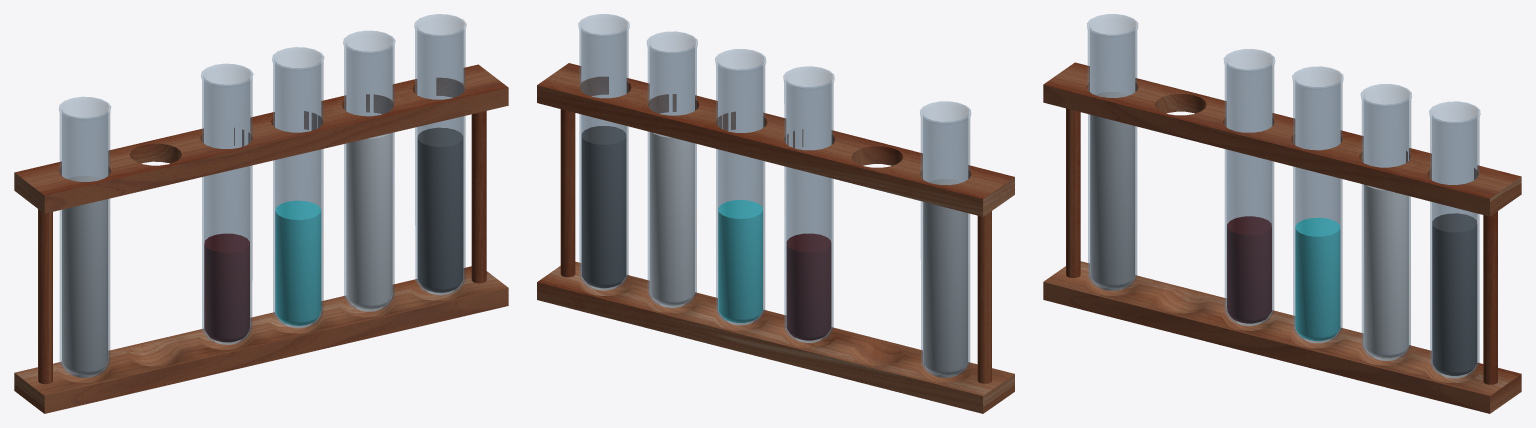
Rendered from tube_a_essai.glb.
3 views of the same model, side by side, from view 1: azimuth 30°, elevation 25°; view 2: azimuth 150°, elevation 25°; view 3: azimuth 330°, elevation 25° (orthographic).
Visible parts, largest first — view 1: Cylinder001; view 2: Cylinder001; view 3: Cylinder001.
Part boxes in pixels (x1,y1,x2,y2): Cylinder001: (14, 14, 508, 413); Cylinder001: (537, 14, 1014, 413); Cylinder001: (1043, 14, 1521, 413).
Bounding box in the file's own units: 37.84 × 22.18 × 5.21.
Materials: 1 (1 with a texture image).
